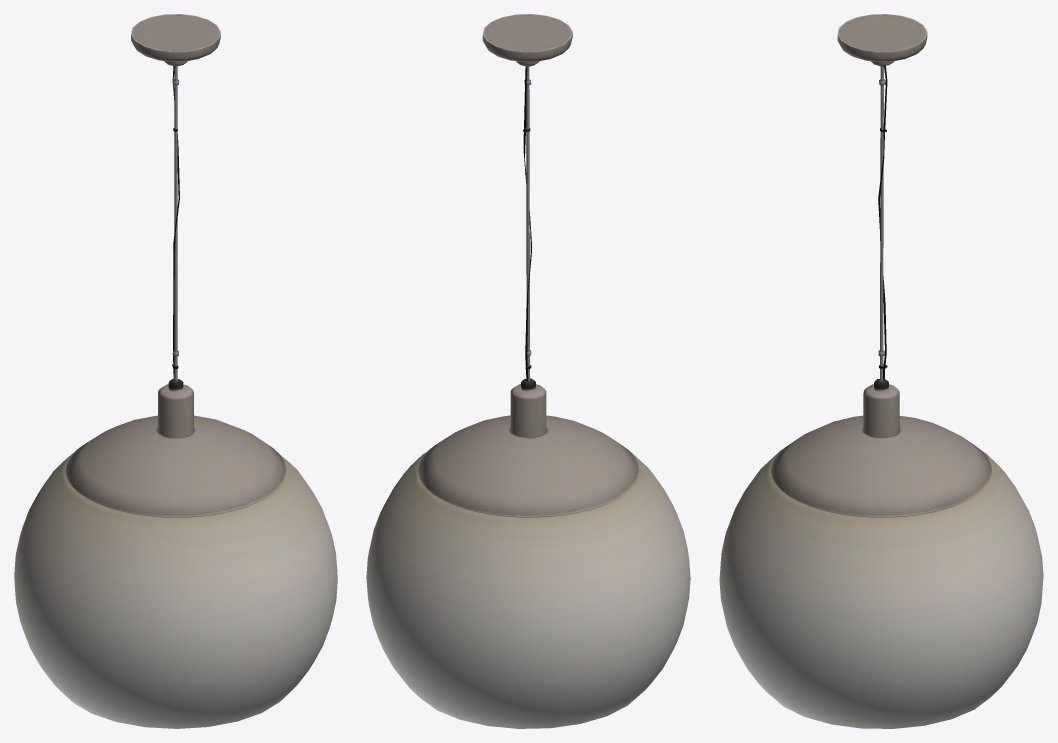
The model's file is modern_ceiling_lamp_01.glb.
3 views of the same model, side by side, from view 1: azimuth 30°, elevation 25°; view 2: azimuth 150°, elevation 25°; view 3: azimuth 270°, elevation 25° (orthographic).
Visible parts, largest first — view 1: modern_ceiling_lamp_01; view 2: modern_ceiling_lamp_01; view 3: modern_ceiling_lamp_01.
Part boxes in pixels (x1,y1,x2,y2): modern_ceiling_lamp_01: (14, 14, 337, 728); modern_ceiling_lamp_01: (366, 14, 690, 728); modern_ceiling_lamp_01: (719, 14, 1043, 728).
Size of the model in its own units: 0.4316 by 0.9512 by 0.4316.
Materials: 2 (2 with a texture image).
